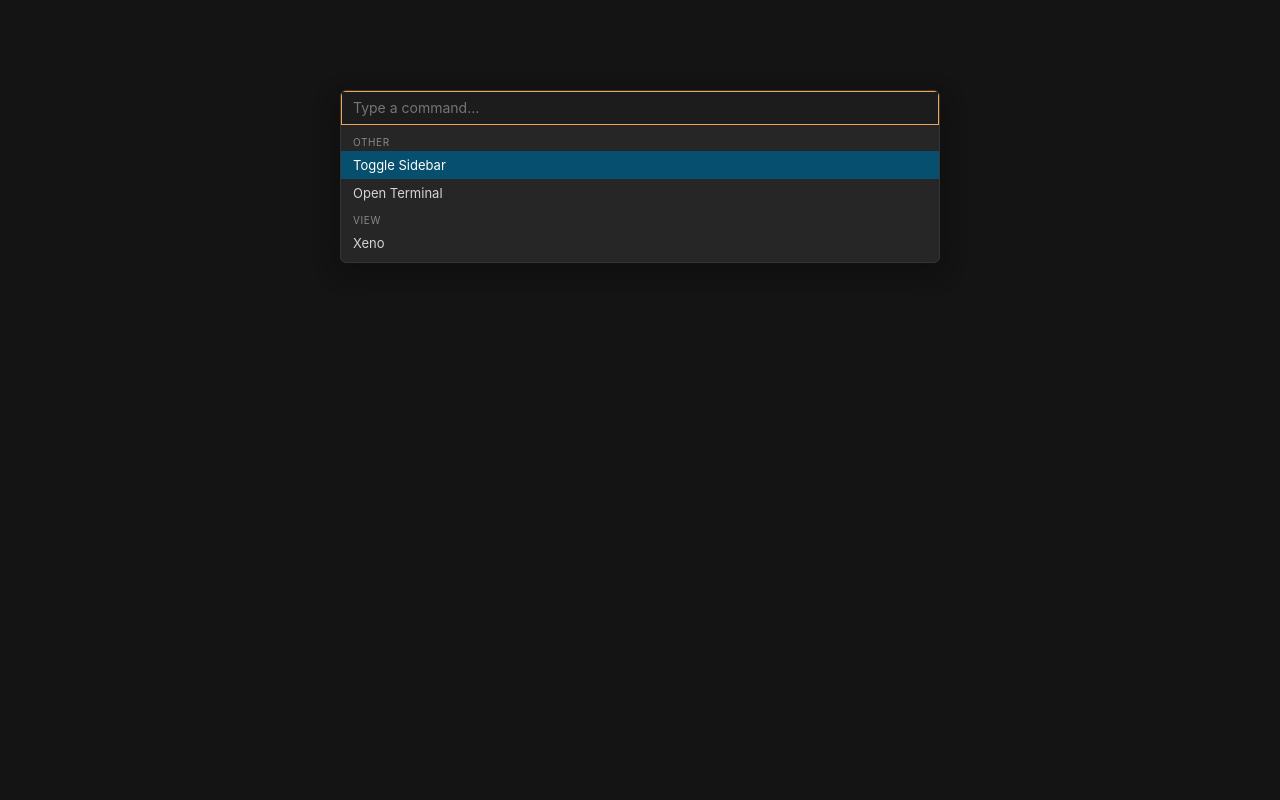
it: CommandPalette › drops category headers while filtering
The width and height of the screenshot is (1280, 800).
Type "xeno" into the field named "Command input".
click(640, 108); type("xeno")  # box [341,91,939,125]
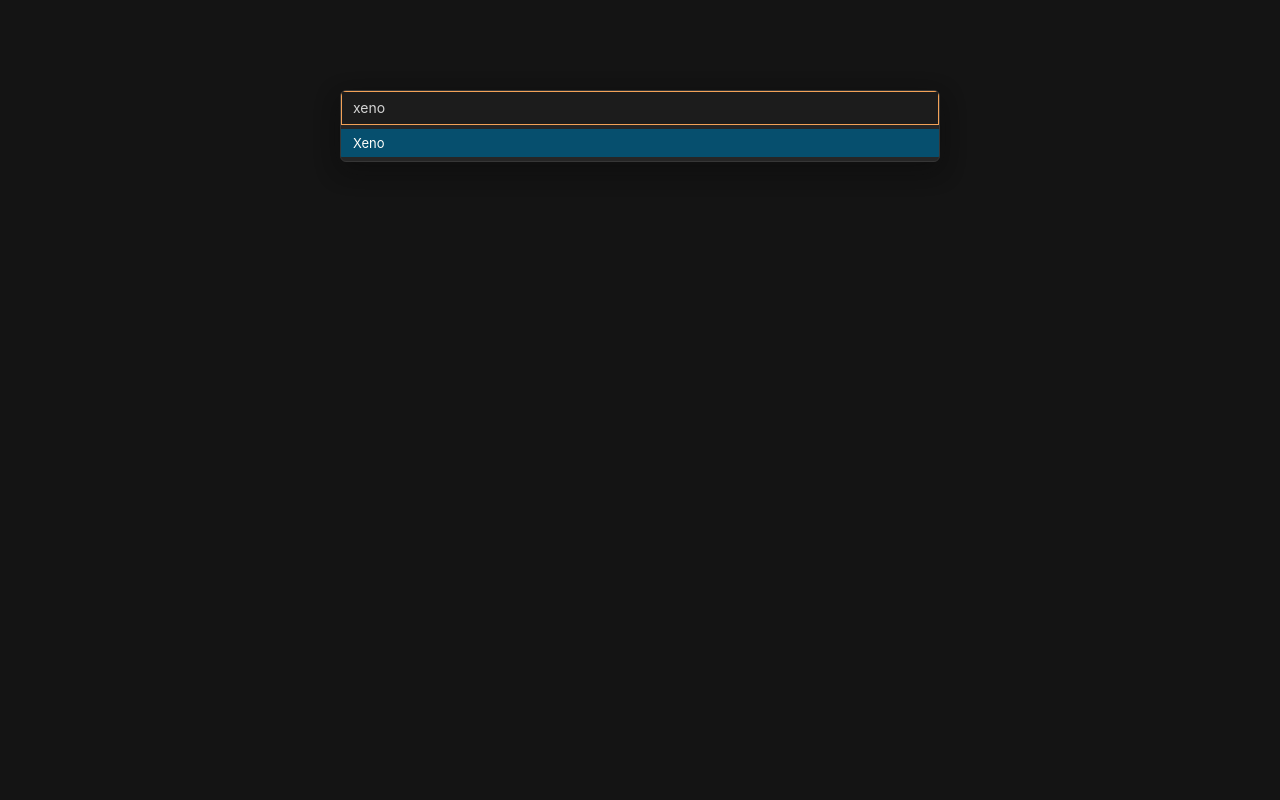
expect the text "Xeno" is shown: met, box [353,135,385,151]
expect the list item "View" is gone: met
